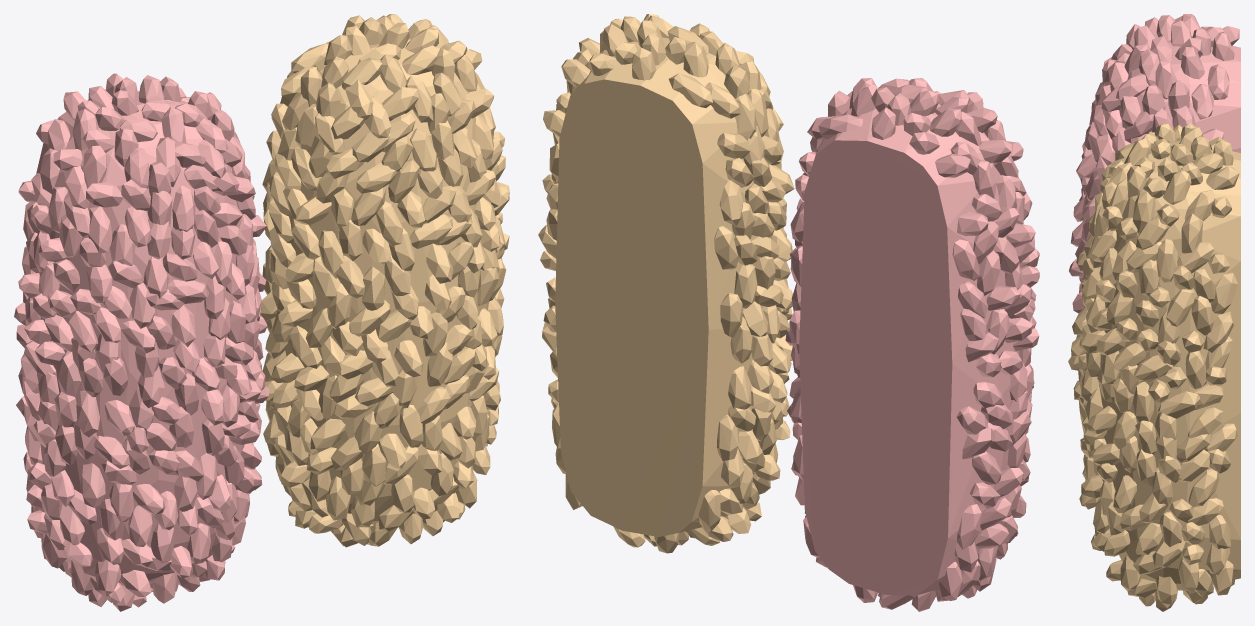
The model's file is hangwa.glb.
3 renders of one model, left to right at view 1: azimuth 30°, elevation 25°; view 2: azimuth 150°, elevation 25°; view 3: azimuth 270°, elevation 25°, orthographic. The views are drawn at different scales.
Visible parts, largest first — view 1: Cube.2786; view 2: Cube.2786; view 3: Cube.2786.
Boxes of the visible parts, left/top/right/bottom form: Cube.2786: left=14, top=14, right=509, bottom=611; Cube.2786: left=538, top=14, right=1039, bottom=611; Cube.2786: left=1068, top=14, right=1240, bottom=611.
Size of the model in its own units: 15.45 by 15.72 by 5.36.
